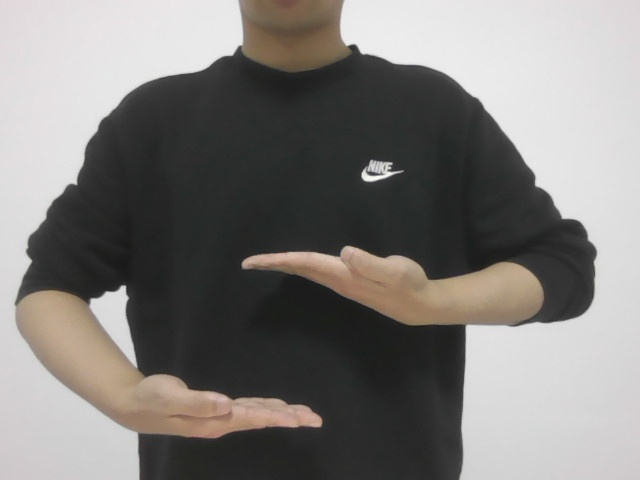happy: (127, 239, 432, 447)
